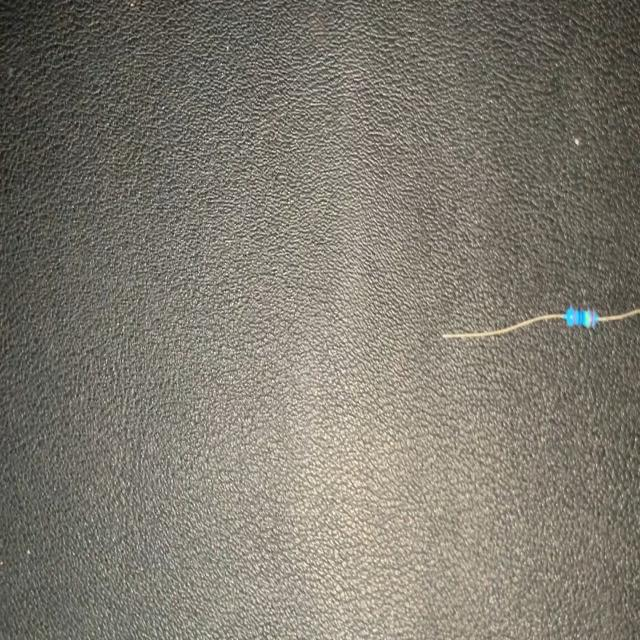resistor: (443, 294, 640, 343)
